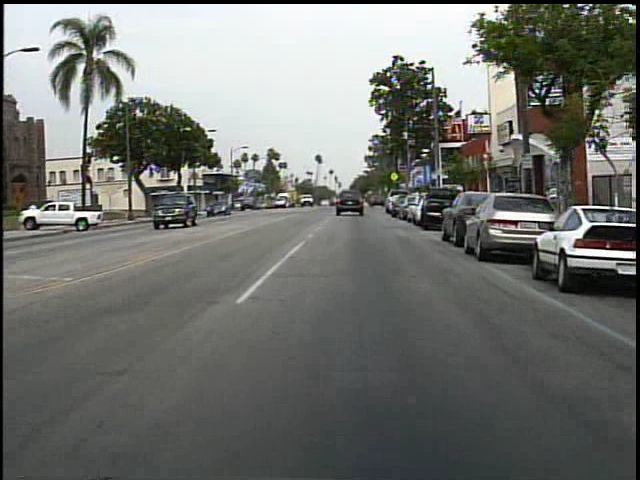person: (332, 187, 354, 217)
